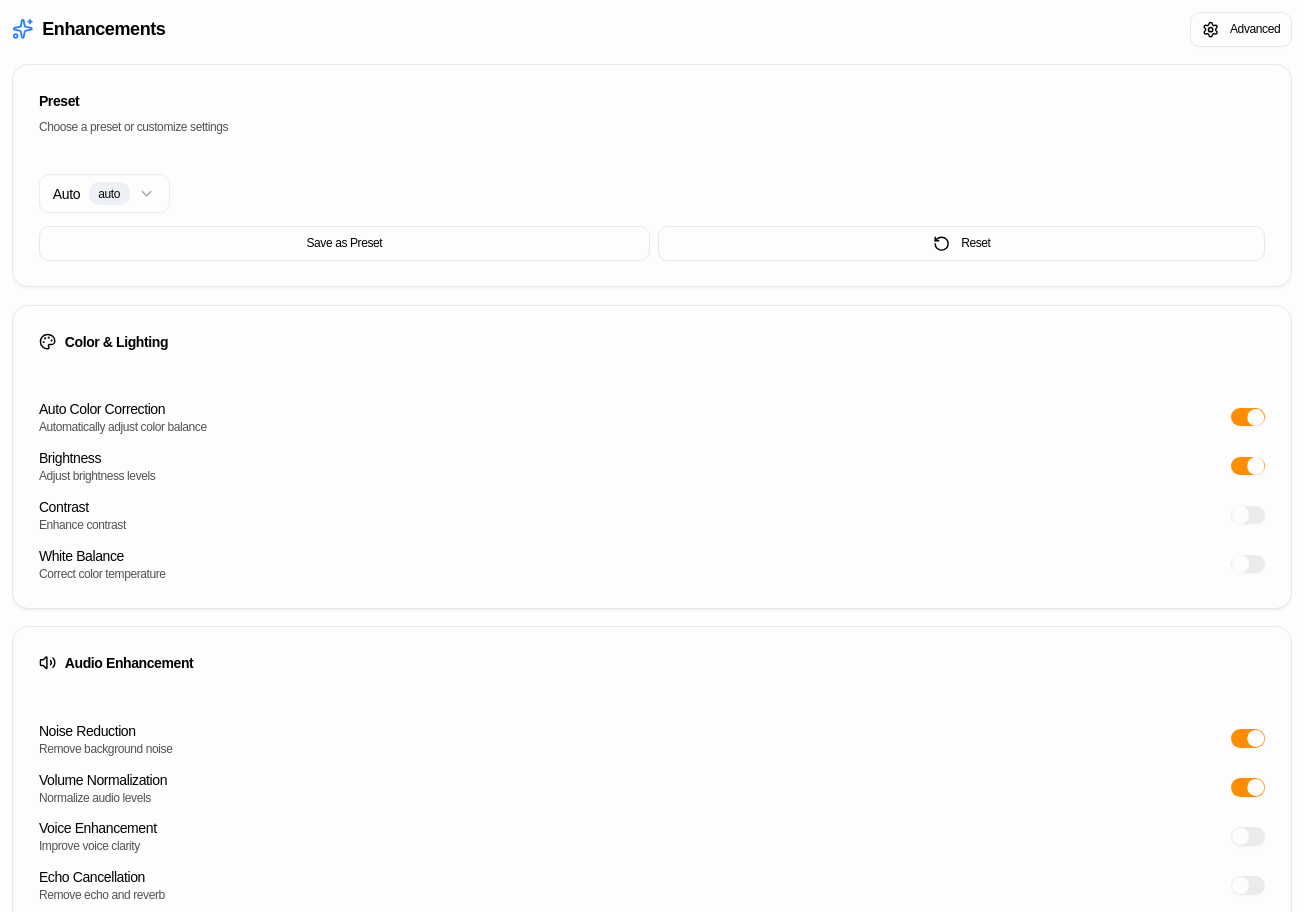
Test: EnhancementPanel › Advanced Settings › should hide advanced settings when simple mode is enabled
Click the button "Advanced" at [1241, 29], box [1190,12,1292,46]
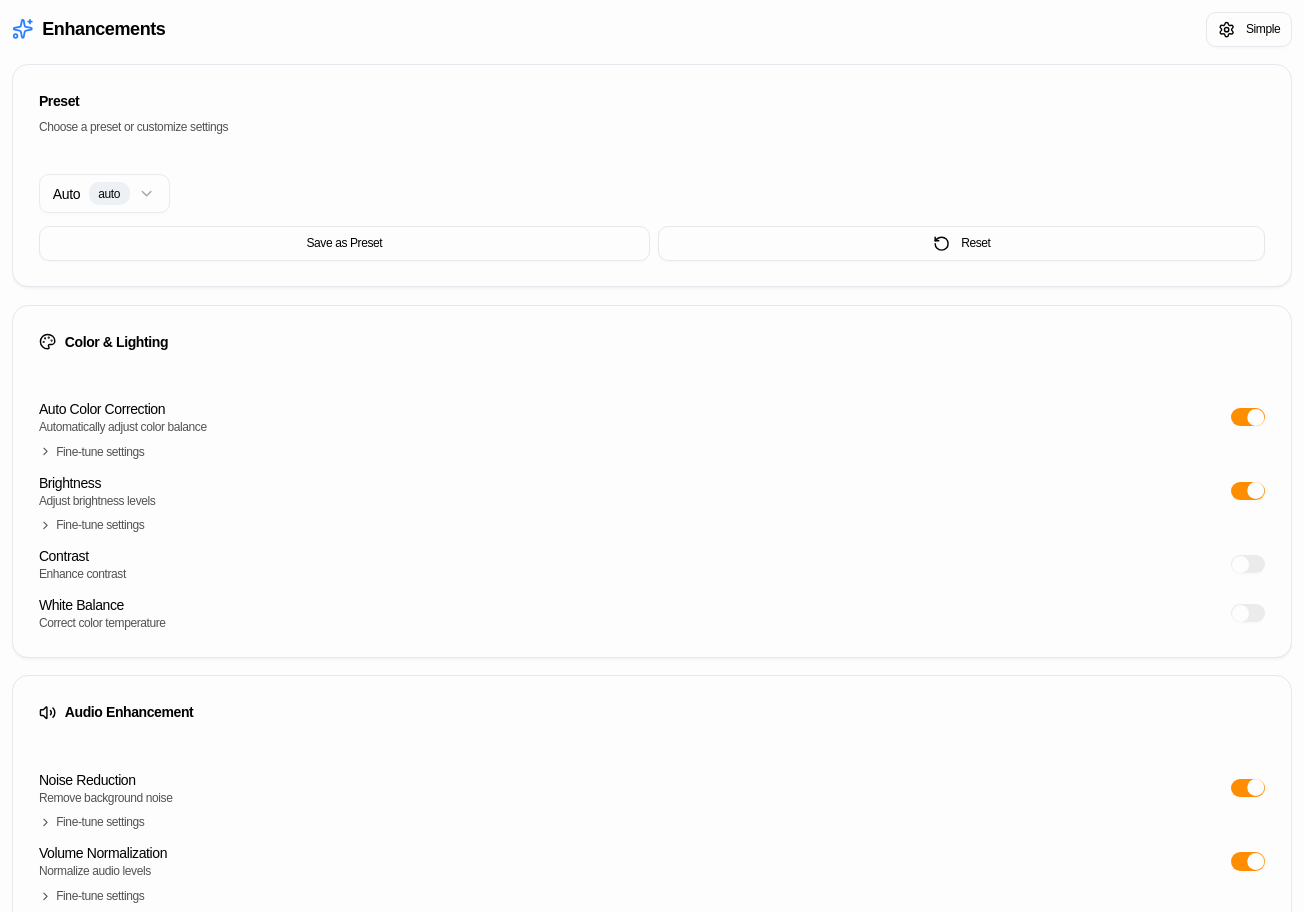
Click the button "Simple" at [1249, 29], box [1206,12,1292,46]
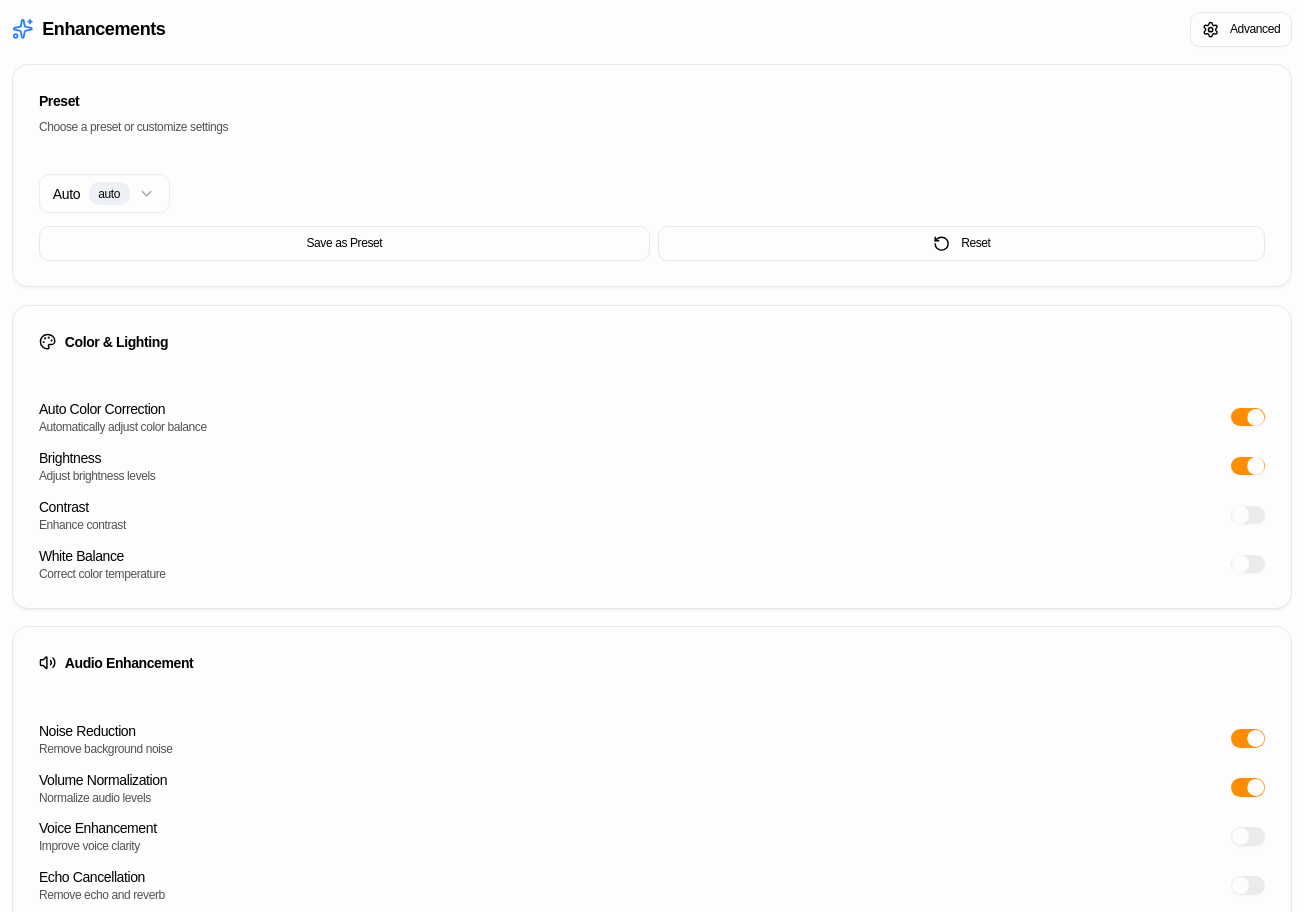
Check: the button "Fine-tune settings" is gone
